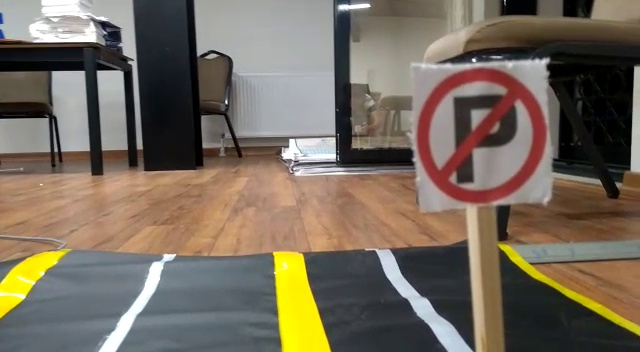park_yapilmaz: (409, 63, 550, 203)
